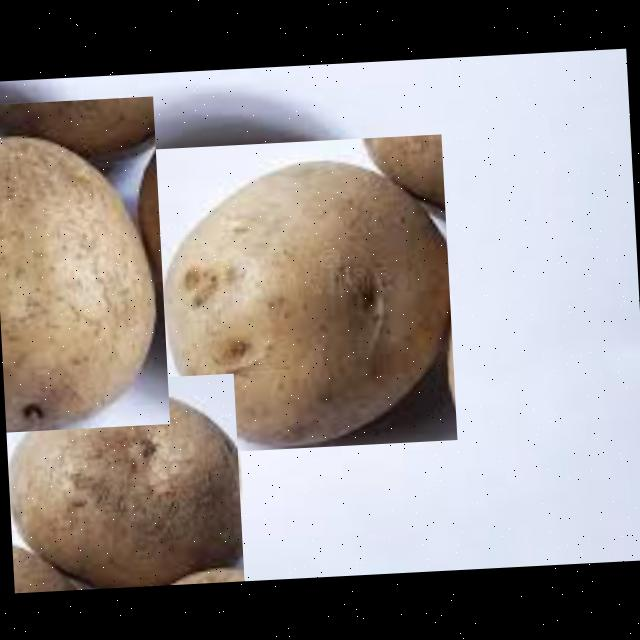Damaged potato: (140, 133, 457, 454), (0, 95, 169, 431), (2, 372, 244, 592)
